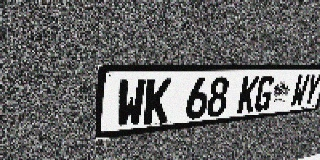6: (185, 77, 211, 120)
8: (205, 77, 231, 117)
G: (253, 75, 276, 112)
K: (143, 78, 172, 125), (236, 76, 260, 114)
W: (116, 79, 146, 128), (289, 74, 310, 108)
Y: (302, 74, 320, 106)
